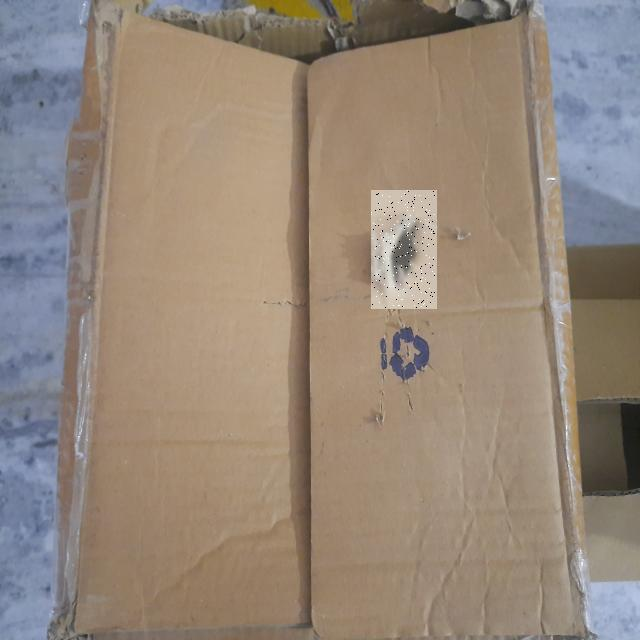leakage: (371, 191, 435, 308)
